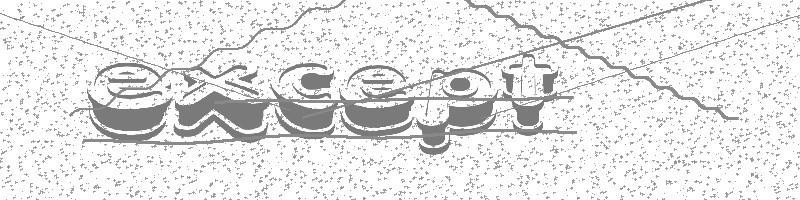c: (267, 56, 337, 140)
e: (84, 52, 172, 142), (338, 60, 417, 139)
p: (413, 62, 497, 157)
t: (500, 50, 561, 135)
x: (174, 54, 271, 144)
